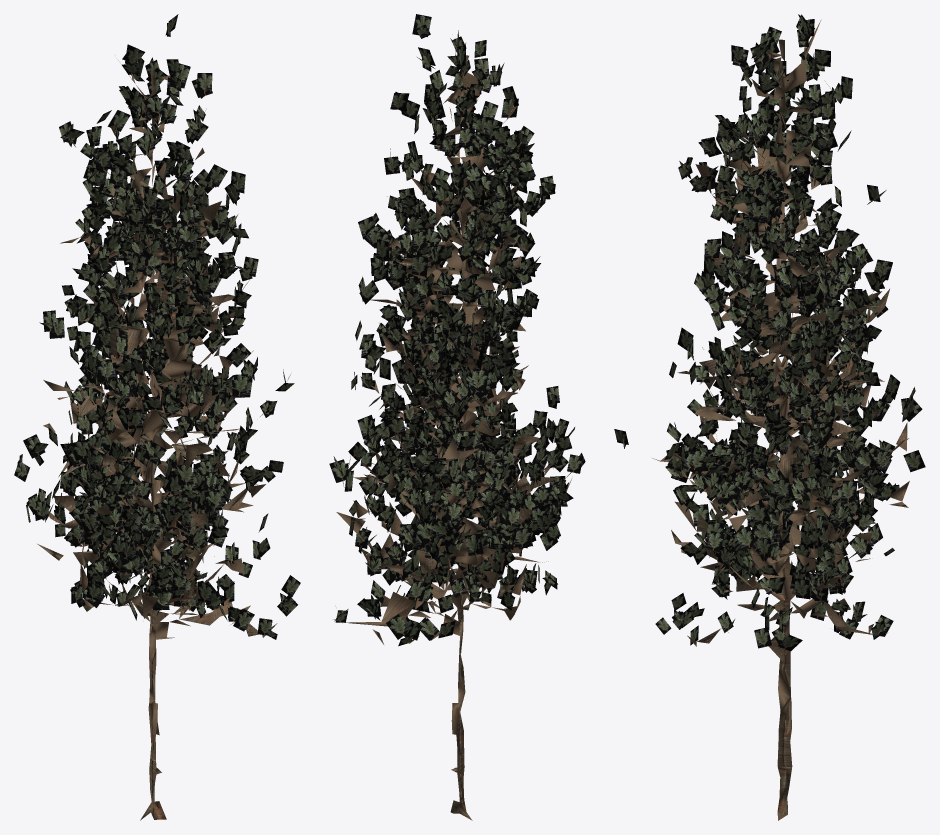
Rendered from tree_pine.glb.
The picture shows the model from 3 angles, left to right: view 1: azimuth 30°, elevation 25°; view 2: azimuth 150°, elevation 25°; view 3: azimuth 270°, elevation 25°; orthographic projection. The views are drawn at different scales.
Visible parts, largest first — view 1: Leaves, Bark; view 2: Leaves, Bark; view 3: Leaves, Bark.
Part boxes in pixels (x1,y1,x2,y2): Leaves: [14, 14, 300, 639]; Bark: [37, 60, 290, 820]; Leaves: [329, 14, 585, 646]; Bark: [333, 50, 571, 820]; Leaves: [614, 14, 925, 651]; Bark: [652, 19, 909, 820].
Bounding box in the file's own units: 6.03 × 19.28 × 6.68.
Materials: 2 (2 with a texture image).
